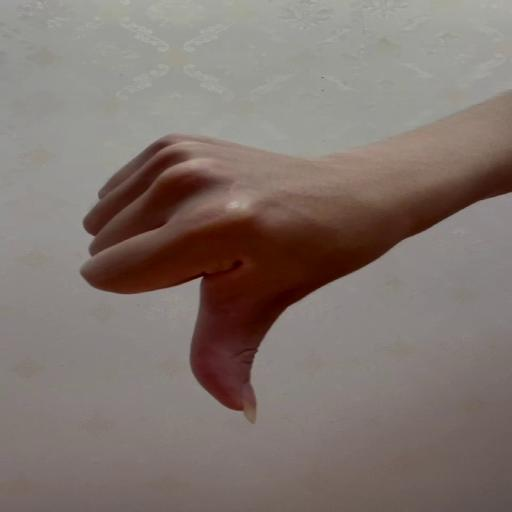thumbs_down: (84, 132, 344, 425)
